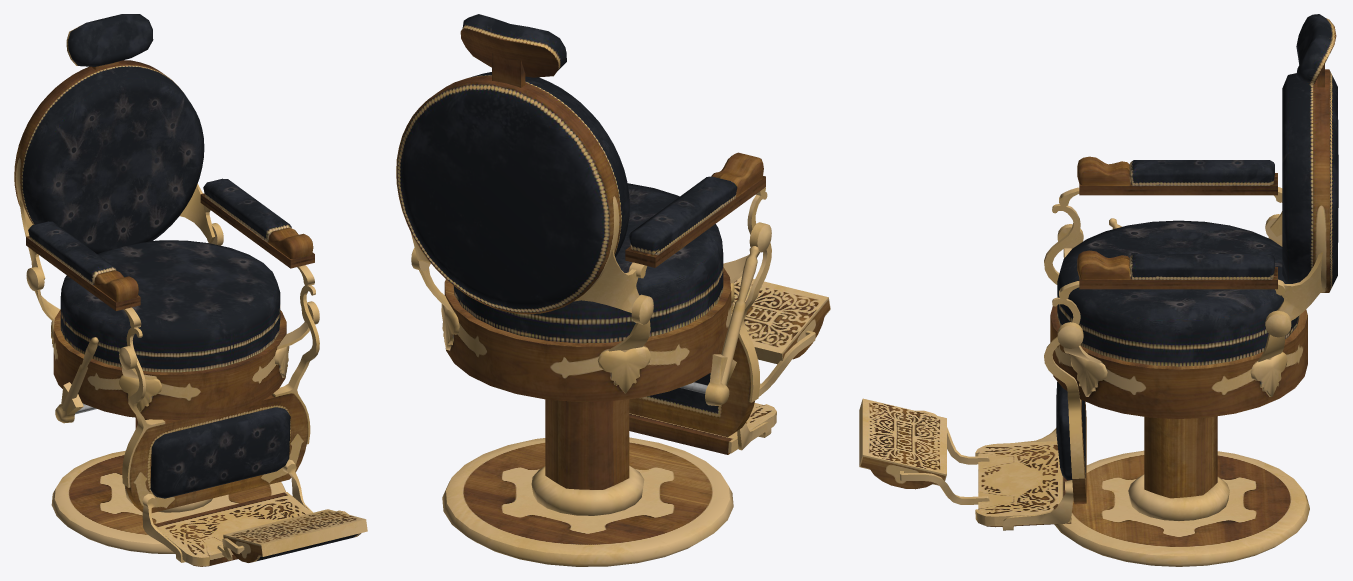
File: chair.glb
3 renders of one model, left to right at view 1: azimuth 30°, elevation 25°; view 2: azimuth 150°, elevation 25°; view 3: azimuth 270°, elevation 25°, orthographic. The views are drawn at different scales.
Parts seen in each view (by area): view 1: BarberShopChair_01; view 2: BarberShopChair_01; view 3: BarberShopChair_01.
Part boxes in pixels (bbox=[...]): BarberShopChair_01: bbox=[14, 14, 367, 566]; BarberShopChair_01: bbox=[396, 14, 830, 566]; BarberShopChair_01: bbox=[859, 14, 1338, 566].
Bounding box in the file's own units: 0.7565 × 1.49 × 1.33.
1 material, 1 textured.
